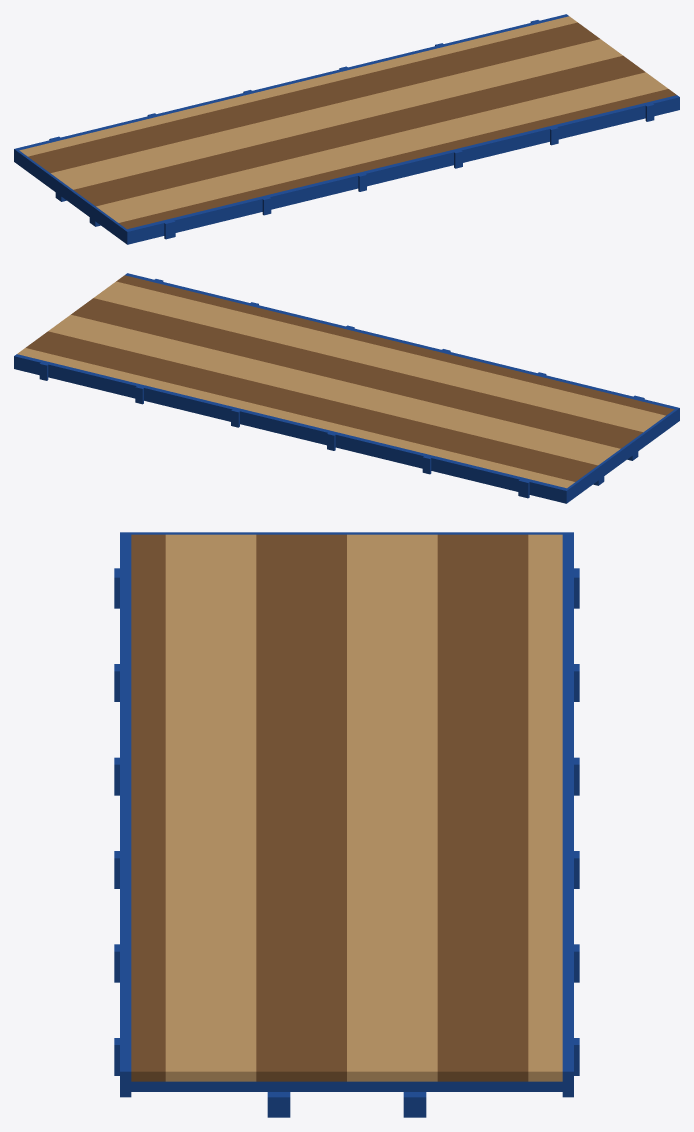
The model's file is flatbed_truck_deck.glb.
3 views of the same model, one above another, from view 1: azimuth 30°, elevation 25°; view 2: azimuth 150°, elevation 25°; view 3: azimuth 270°, elevation 25° (orthographic). The views are drawn at different scales.
Parts seen in each view (by area): view 1: body:compound; view 2: body:compound; view 3: body:compound.
Boxes of the visible parts, x1,y1,x2,y2 form: body:compound: [14, 14, 679, 244]; body:compound: [14, 273, 679, 503]; body:compound: [114, 532, 579, 1117].
Bounding box in the file's own units: 7.03 × 0.2812 × 2.56.
